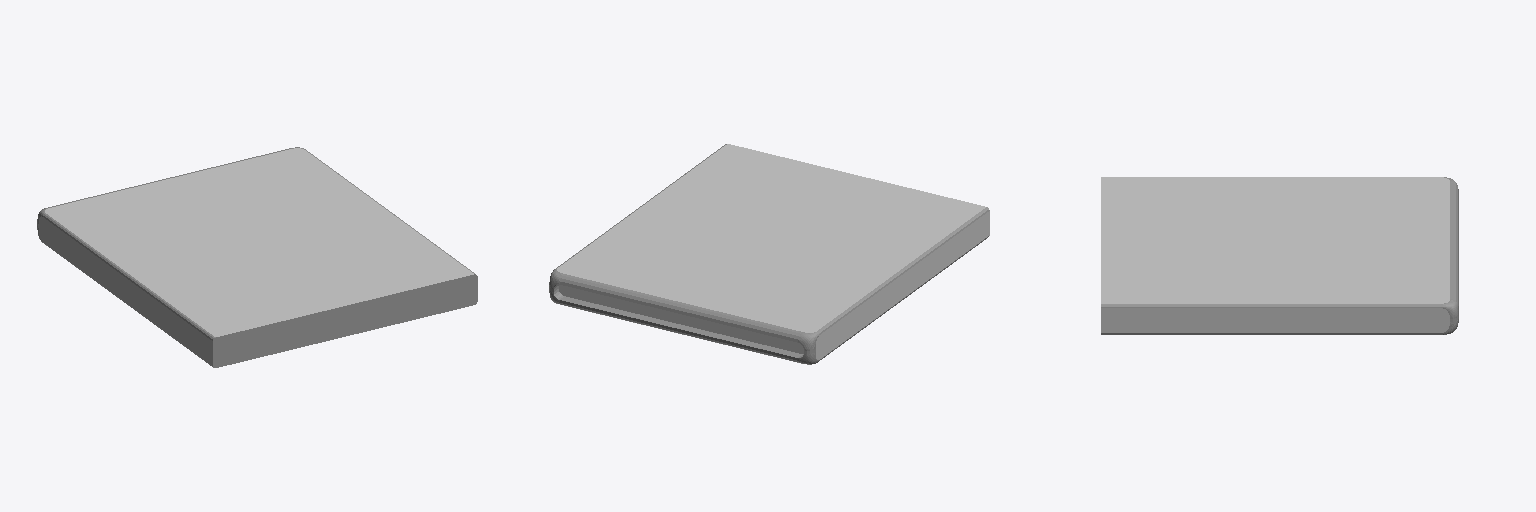
The model's file is thick-deep-long.obj.
3 views of the same model, side by side, from view 1: azimuth 30°, elevation 25°; view 2: azimuth 150°, elevation 25°; view 3: azimuth 270°, elevation 25° (orthographic).
Visible parts, largest first — view 1: thick-deep-long; view 2: thick-deep-long; view 3: thick-deep-long.
Part boxes in pixels (bbox=[...]): thick-deep-long: bbox=[37, 147, 477, 367]; thick-deep-long: bbox=[549, 144, 989, 364]; thick-deep-long: bbox=[1101, 177, 1458, 334].
Size of the model in its own units: 9 by 1 by 10.5.